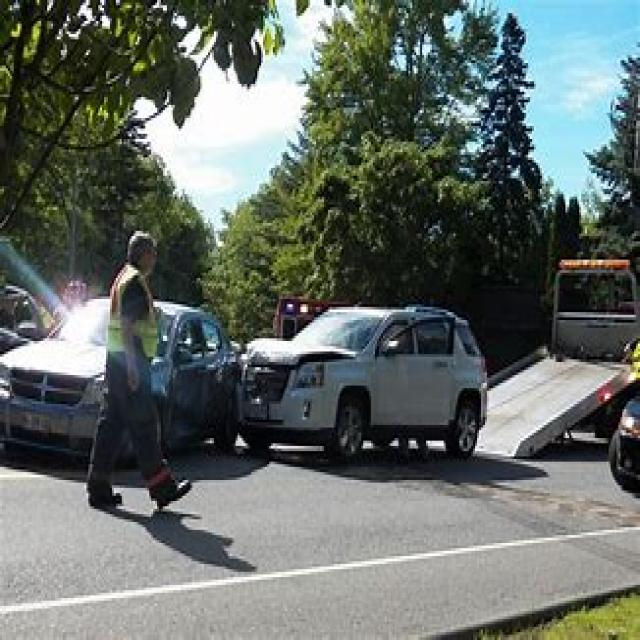Accident: (156, 239, 390, 533)
